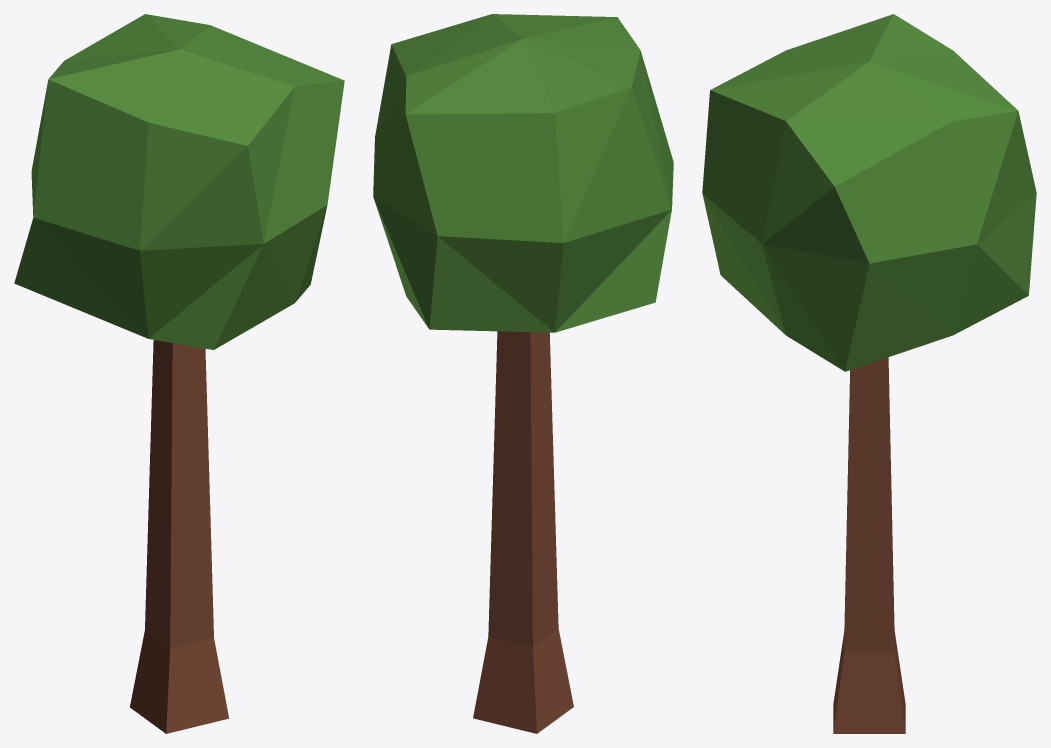
Rendered from Tree_42_summer_vc.fbx.
The picture shows the model from 3 angles, left to right: view 1: azimuth 30°, elevation 25°; view 2: azimuth 150°, elevation 25°; view 3: azimuth 270°, elevation 25°; orthographic projection. The views are drawn at different scales.
Parts seen in each view (by area): view 1: Tree_42_summer_vc; view 2: Tree_42_summer_vc; view 3: Tree_42_summer_vc.
Boxes of the visible parts, <box> form: Tree_42_summer_vc: <box>14,14,344,733</box>; Tree_42_summer_vc: <box>373,14,673,733</box>; Tree_42_summer_vc: <box>702,14,1036,733</box>.
Bounding box in the file's own units: 98.78 × 212 × 97.79.
